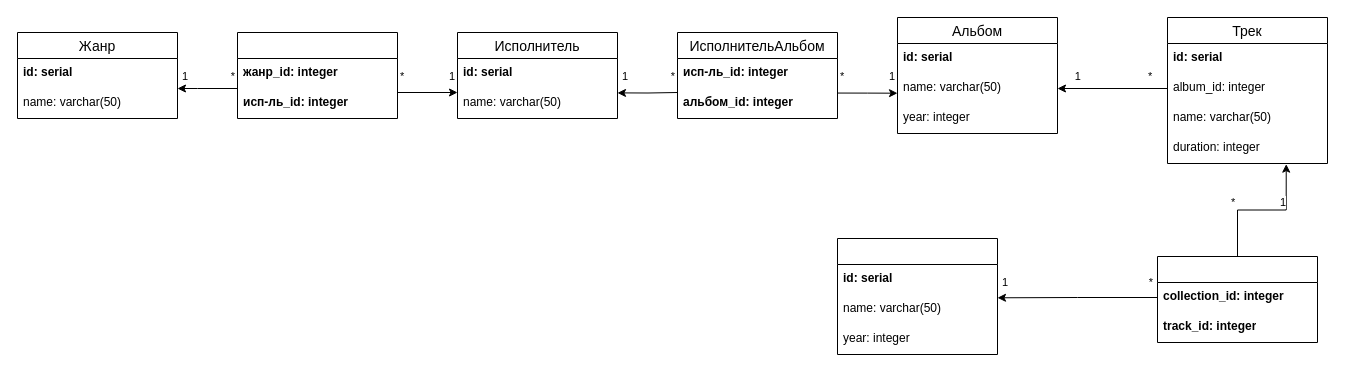
Image size: 1345x375. Some labels were removed from this diagram. Here are the shapes that lost their labels. From the top down, the box of each, then its label:
(236, 32, 398, 118): ЖанрИсполнитель
(836, 238, 998, 354): Сборник
(1156, 256, 1318, 342): СборникТрек
